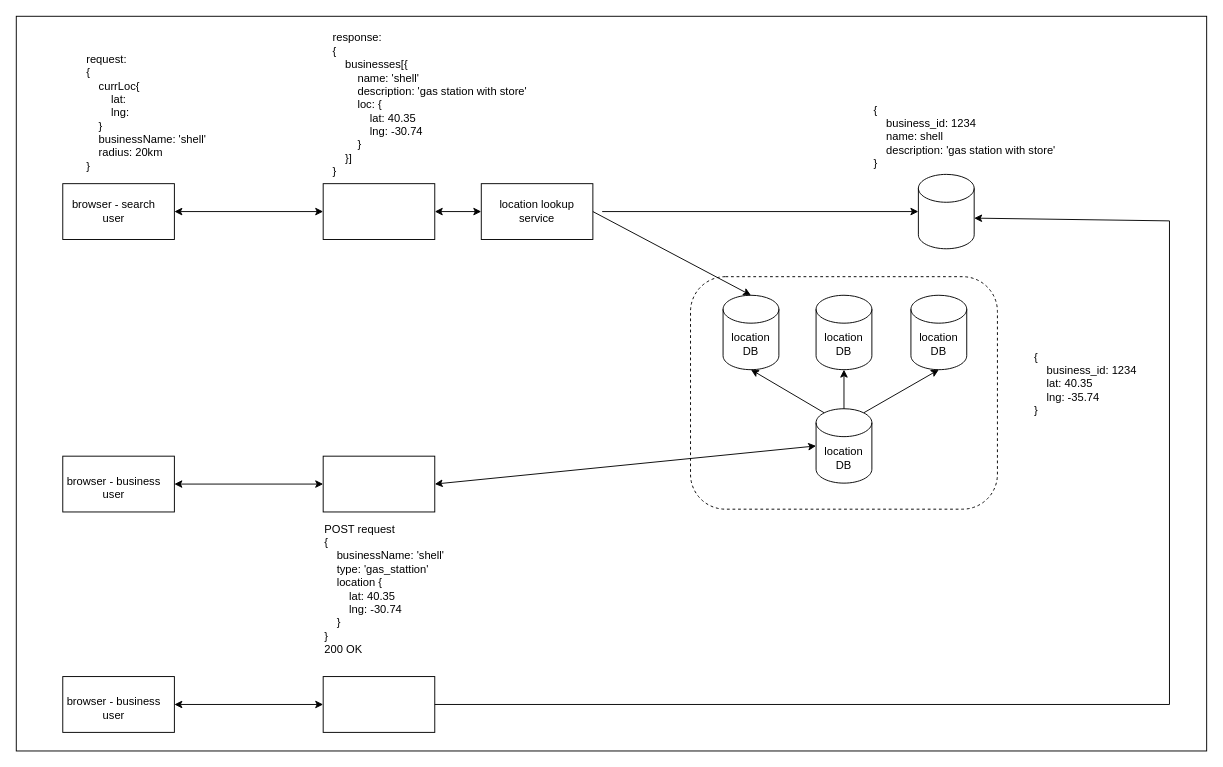
Image size: 1223x767. Some labels were removed from this diagram. The shapes that lost their labels are listed below. From the top down, each one's box as (x1, y1, x2, y2) in pixels, then its label:
(322, 183, 435, 239): LB
(917, 173, 974, 249): Business information DB
(322, 455, 435, 512): location capture service
(322, 676, 435, 732): location information update
